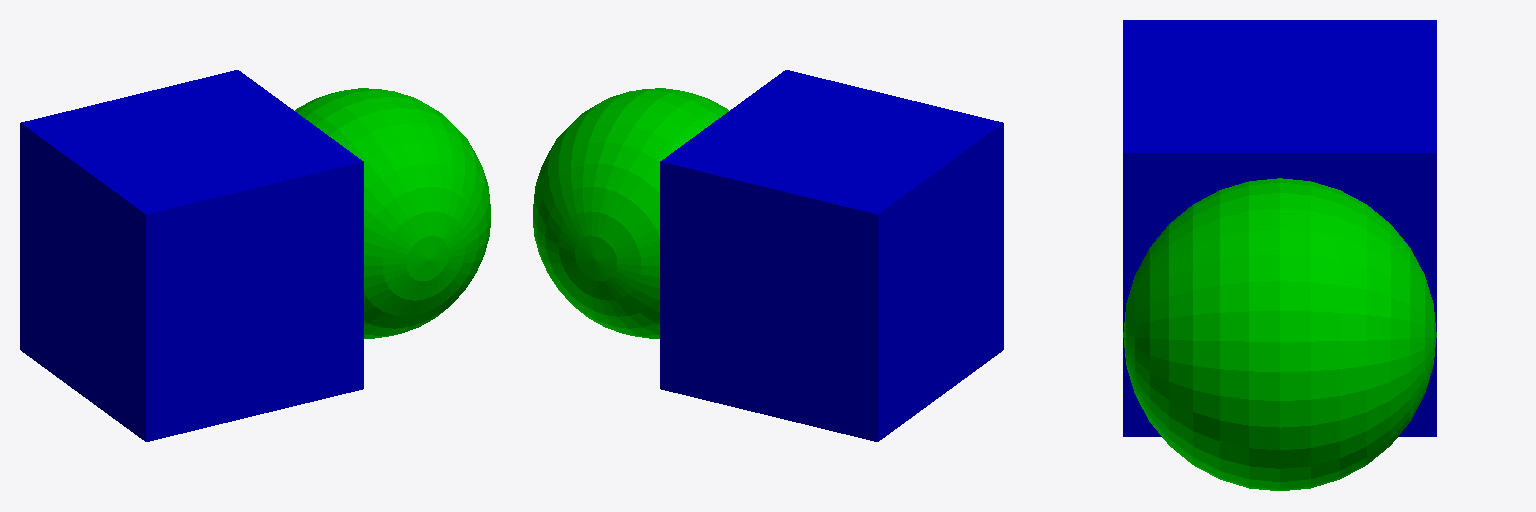
URDF robot description (A_vs_B):
<?xml version="1.0"?>
<robot name="A_vs_B">
  <material name="blue">
    <color rgba="0 0 0.8 .5"/>
  </material>
  <material name="green">
    <color rgba="0 0.8 0 .5"/>
  </material>
  <link name="A">
    <visual>
      <geometry>
        <box size="2 2 2"/>
      </geometry>
      <origin rpy="0.0 0 0" xyz="-0.8 0 0"/>
      <material name="blue"/>
    </visual>
    <collision>
      <geometry>
        <box size="2 2 2"/>
      </geometry>
      <origin rpy="0.0 0 0" xyz="-0.8 0 0"/>
      <material name="blue"/>
    </collision>
  </link>
  <link name="B">
    <visual>
      <geometry>
        <mesh filename="package://exotica_examples/test/resources/uvsphere.obj"/>
      </geometry>
      <origin rpy="0 0 0" xyz="0.8 0 0"/>
      <material name="green"/>
    </visual>
    <collision>
      <geometry>
        <mesh filename="package://exotica_examples/test/resources/uvsphere.obj"/>
      </geometry>
      <origin rpy="0 0 0" xyz="0.8 0 0"/>
      <material name="green"/>
    </collision>
  </link>
  <joint name="joint1" type="revolute">
    <axis xyz="0 0 1"/>
    <limit effort="1" lower="-1" upper="1" velocity="1"/>
    <origin rpy="0 0 0" xyz="0 0 0"/>
    <parent link="A"/>
    <child link="B"/>
  </joint>
</robot>

--- Facts derived from the render (not from the file) ---
The picture shows the robot from 3 angles, left to right: view 1: azimuth 30°, elevation 25°; view 2: azimuth 150°, elevation 25°; view 3: azimuth 270°, elevation 25°; orthographic projection.
Model A_vs_B with 2 links and 1 joints (1 revolute), rooted at A, posed all joints at 0.
Visible links, largest first — view 1: A, B; view 2: A, B; view 3: B, A.
Link boxes in pixels (x1,y1,x2,y2): A: [20, 70, 363, 441]; B: [295, 88, 490, 338]; A: [660, 70, 1003, 441]; B: [533, 88, 728, 338]; B: [1123, 178, 1436, 490]; A: [1123, 20, 1436, 436].
Bounding box of the posed robot: 3.6 × 2 × 2 m (x, y, z).
Meshes: 1 distinct files referenced, 1 mesh visuals loaded (1 OBJ).